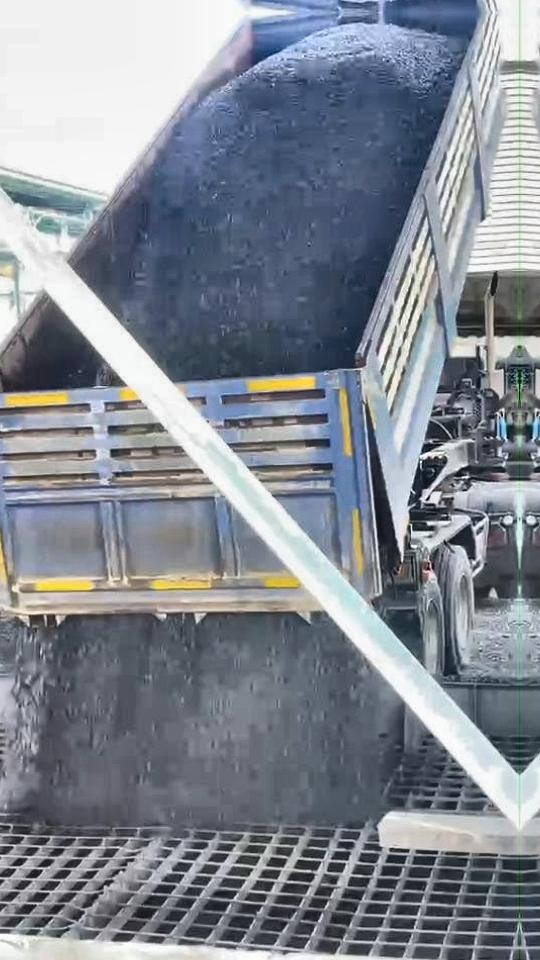gravel: (121, 23, 466, 379), (0, 616, 402, 828), (0, 620, 18, 672)
